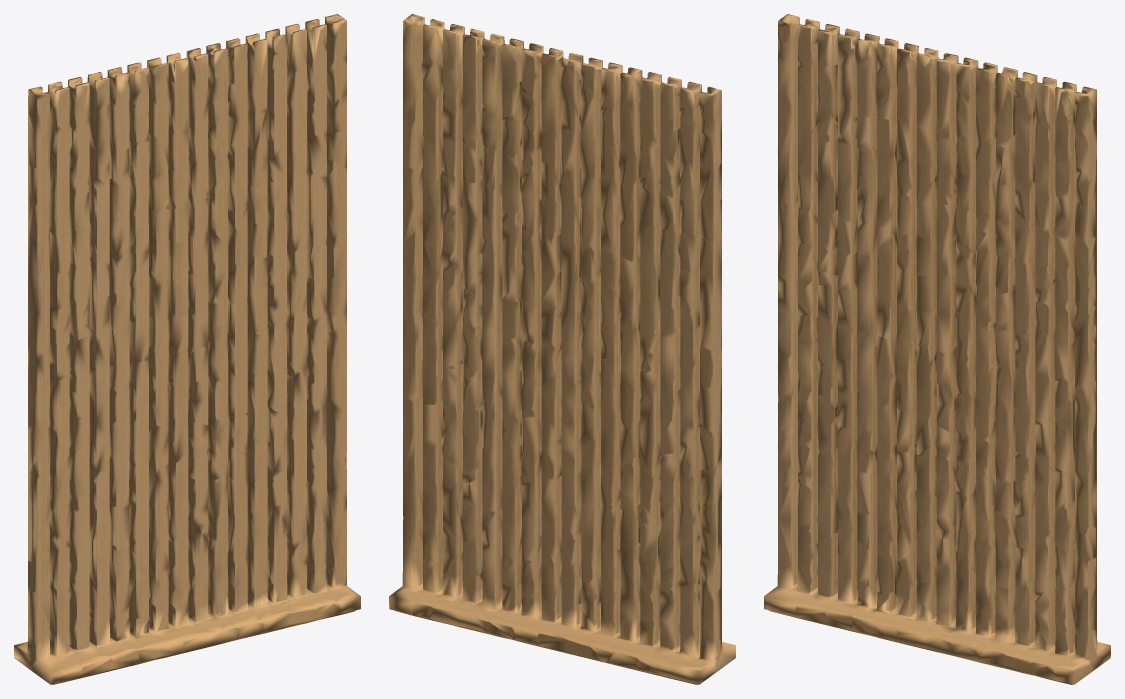
The model's file is Wooden room divider.glb.
The picture shows the model from 3 angles, left to right: view 1: azimuth 30°, elevation 25°; view 2: azimuth 150°, elevation 25°; view 3: azimuth 330°, elevation 25°; orthographic projection.
Visible parts, largest first — view 1: Mesh_0; view 2: Mesh_0; view 3: Mesh_0.
Part boxes in pixels (left/top/right/bottom): Mesh_0: left=14, top=14, right=360, bottom=684; Mesh_0: left=389, top=14, right=735, bottom=684; Mesh_0: left=764, top=14, right=1110, bottom=684.
Size of the model in its own units: 0.8382 by 1.5 by 0.1718.
1 material, 1 textured.
